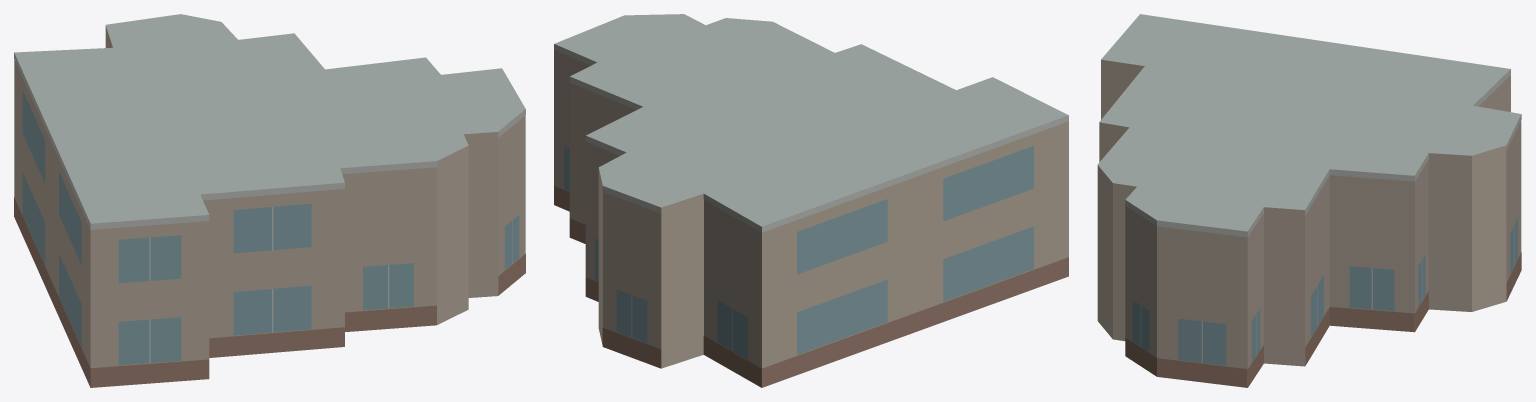
Rendered from survey-upis-32534062.glb.
3 views of the same model, side by side, from view 1: azimuth 30°, elevation 25°; view 2: azimuth 150°, elevation 25°; view 3: azimuth 270°, elevation 25° (orthographic). The views are drawn at different scales.
Parts seen in each view (by area): view 1: survey-upis-32534062.tmp; view 2: survey-upis-32534062.tmp; view 3: survey-upis-32534062.tmp.
Boxes of the visible parts, bbox=[...] form: survey-upis-32534062.tmp: bbox=[14, 14, 525, 387]; survey-upis-32534062.tmp: bbox=[554, 14, 1068, 387]; survey-upis-32534062.tmp: bbox=[1097, 14, 1521, 387].
Bounding box in the file's own units: 19.4 × 6.5 × 15.98.
